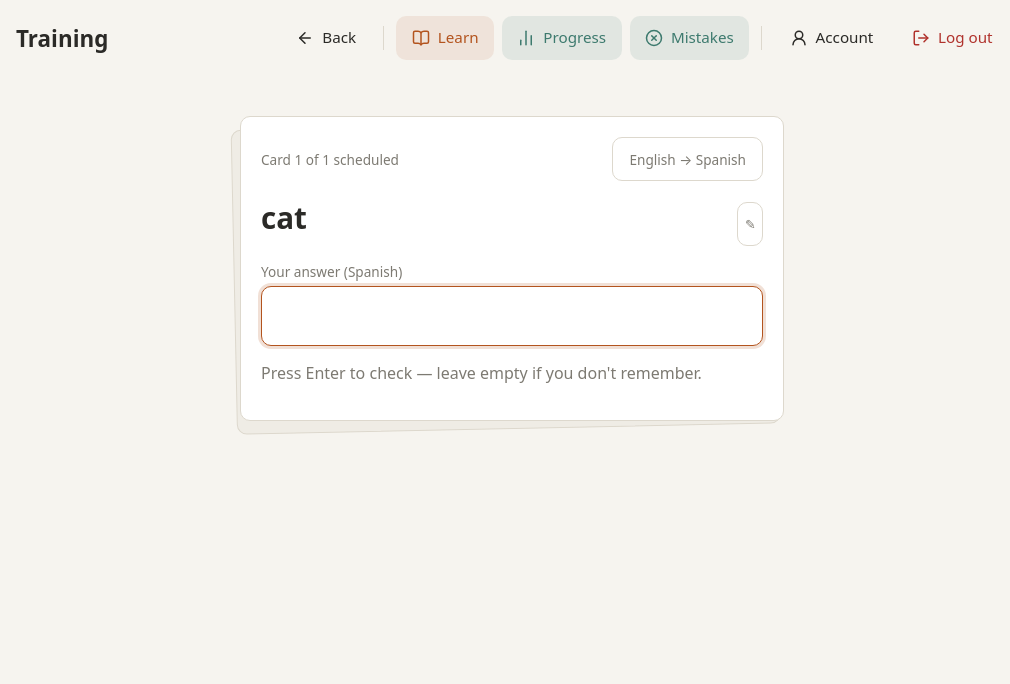
Test: TrainPage offline outbox › advances immediately and shows a waiting-to-sync note when the network is down
The width and height of the screenshot is (1010, 684).
Type "cat" into the text box labelled "Your answer (Spanish)" at (512, 316), box x1=261 y1=286 x2=763 y2=346
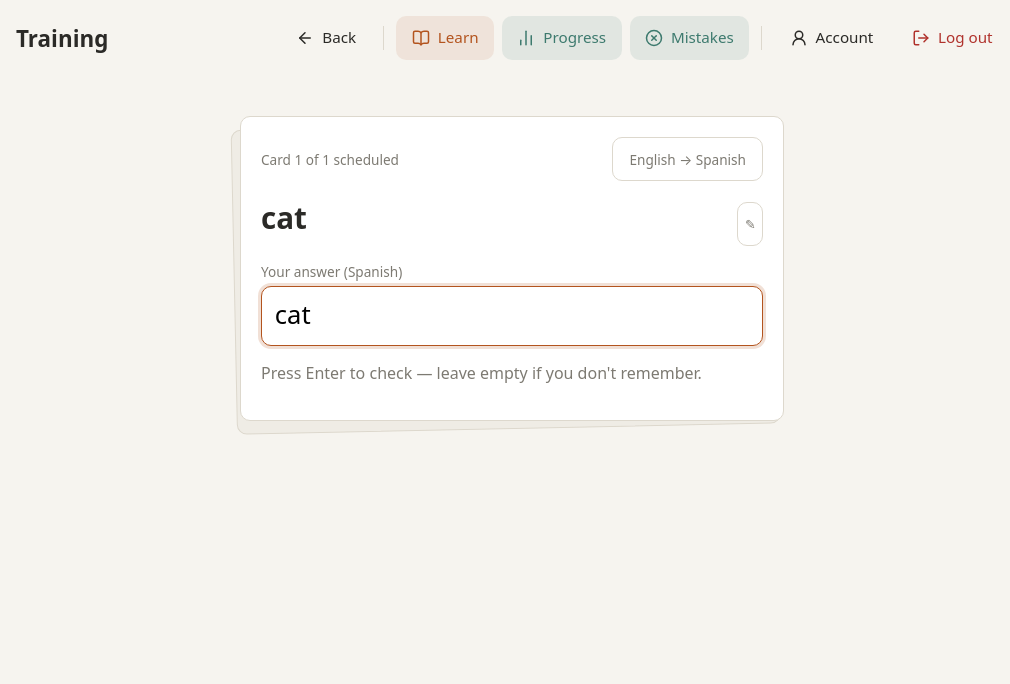
Submit the form labelled "Your answer", box x1=261 y1=262 x2=763 y2=400
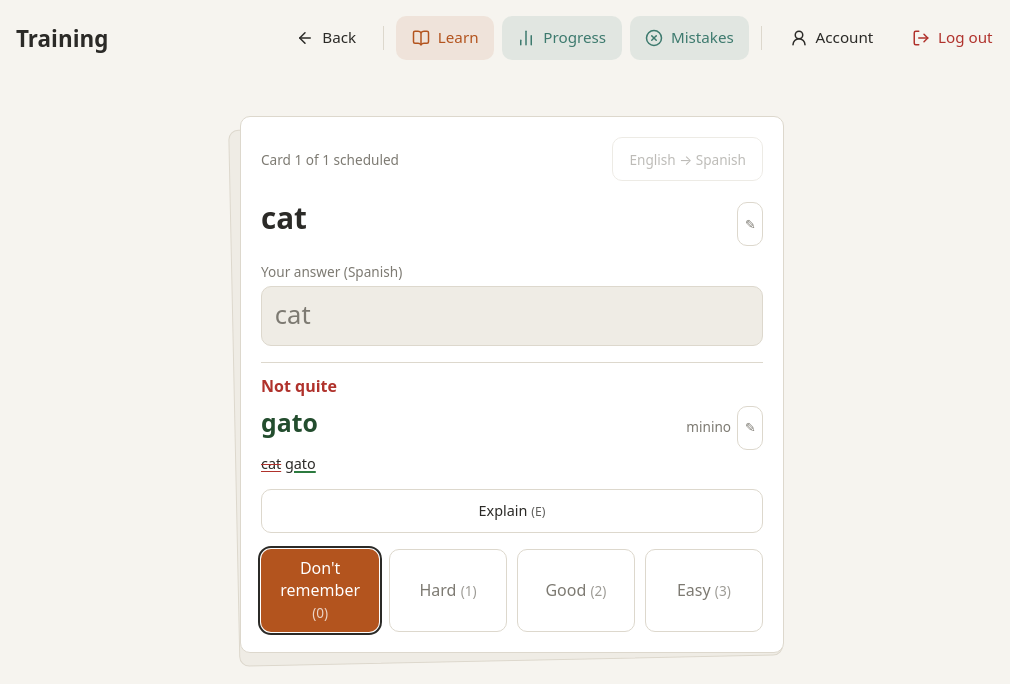
Click the button "Good (2)" at (576, 590), box x1=517 y1=549 x2=635 y2=632
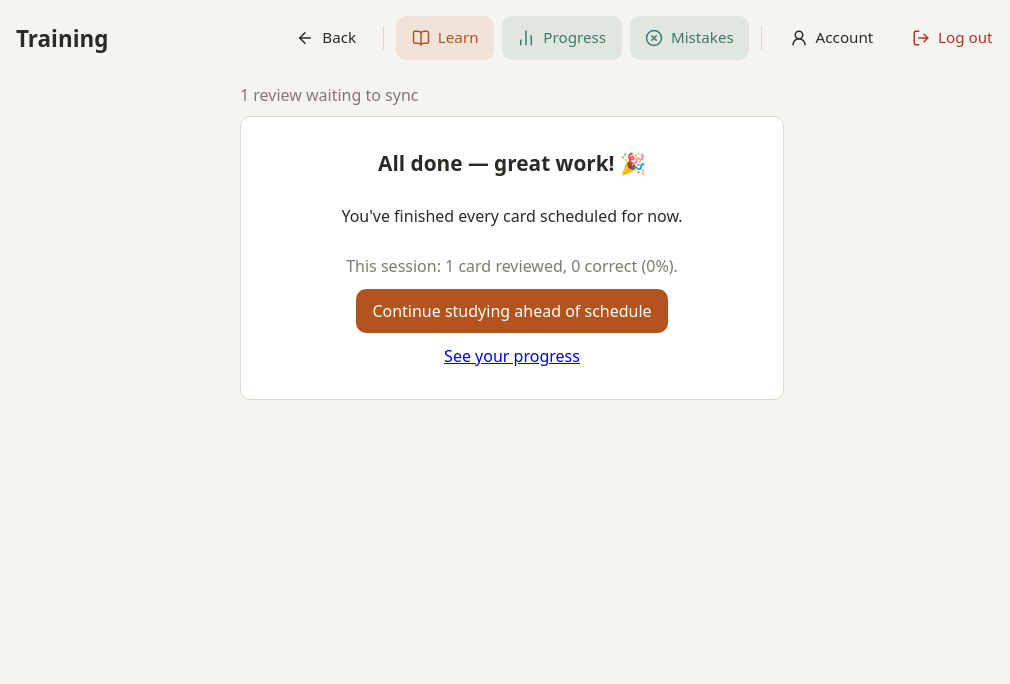
Expected: the heading "All done — great work! 🎉" is shown, x1=378 y1=149 x2=646 y2=177
Expected: the text "1 review waiting to sync" is shown, x1=240 y1=84 x2=418 y2=106
